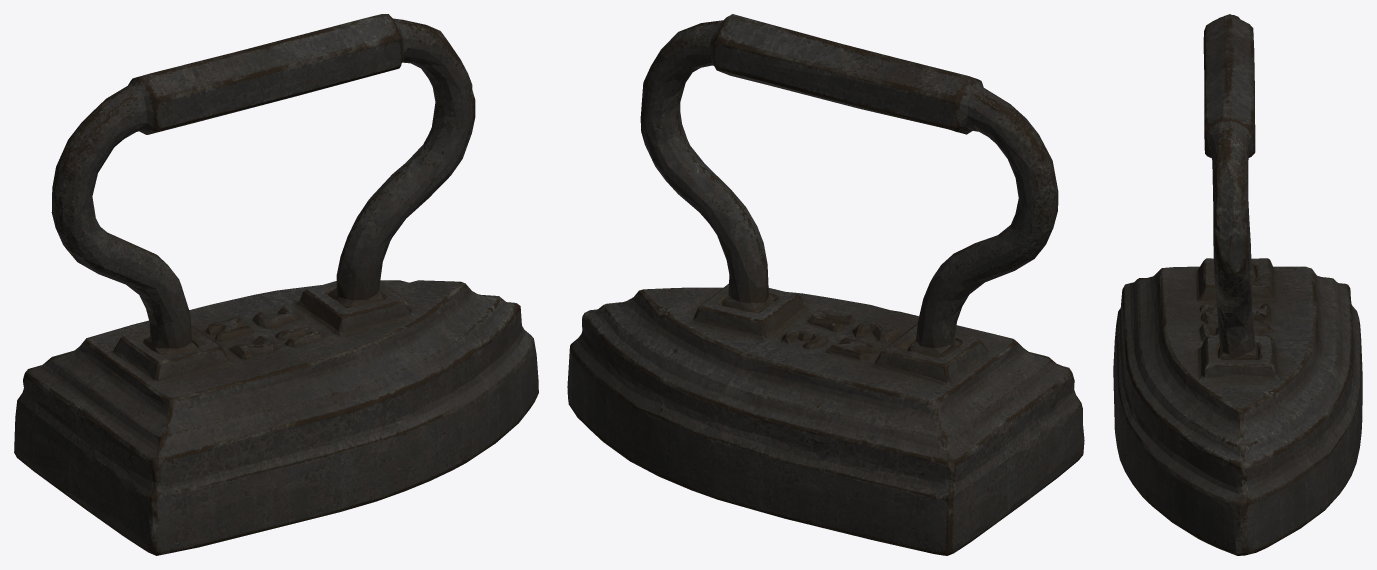
The model's file is iron.obj.
3 renders of one model, left to right at view 1: azimuth 30°, elevation 25°; view 2: azimuth 150°, elevation 25°; view 3: azimuth 270°, elevation 25°, orthographic. The views are drawn at different scales.
Visible parts, largest first — view 1: Object_TexMap; view 2: Object_TexMap; view 3: Object_TexMap.
Part boxes in pixels (x1=…): Object_TexMap: x1=14, y1=14, x2=538, y2=555; Object_TexMap: x1=567, y1=14, x2=1084, y2=555; Object_TexMap: x1=1113, y1=14, x2=1362, y2=555.
Bounding box in the file's own units: 2.5 × 2.08 × 1.25.
